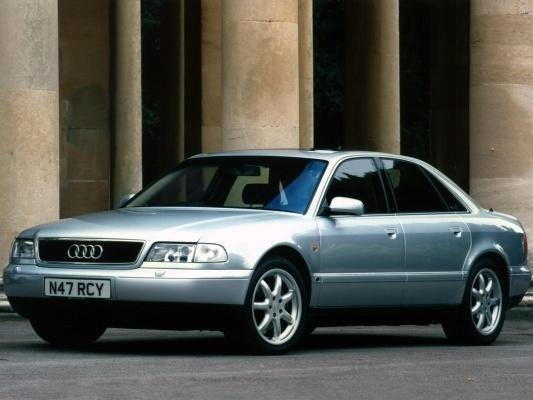Audi: (60, 241, 112, 263)
